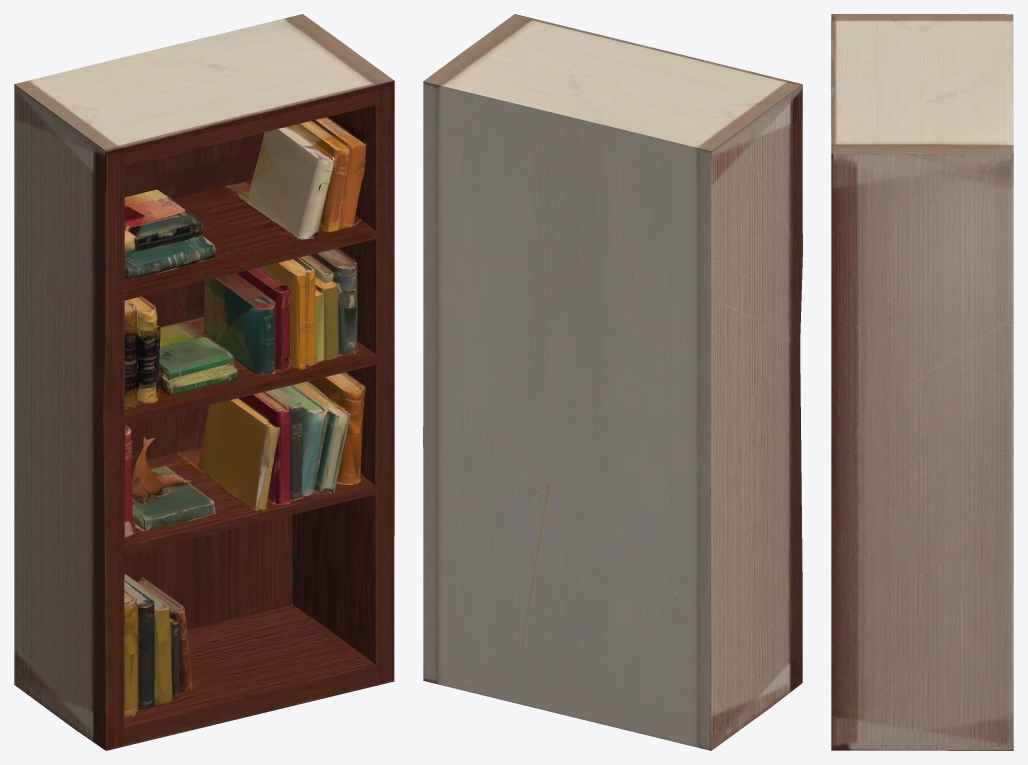
3 views of the same model, side by side, from view 1: azimuth 30°, elevation 25°; view 2: azimuth 150°, elevation 25°; view 3: azimuth 270°, elevation 25° (orthographic).
Size of the model in its own units: 0.9544 by 1.9 by 0.5261.
1 material, 1 textured.
